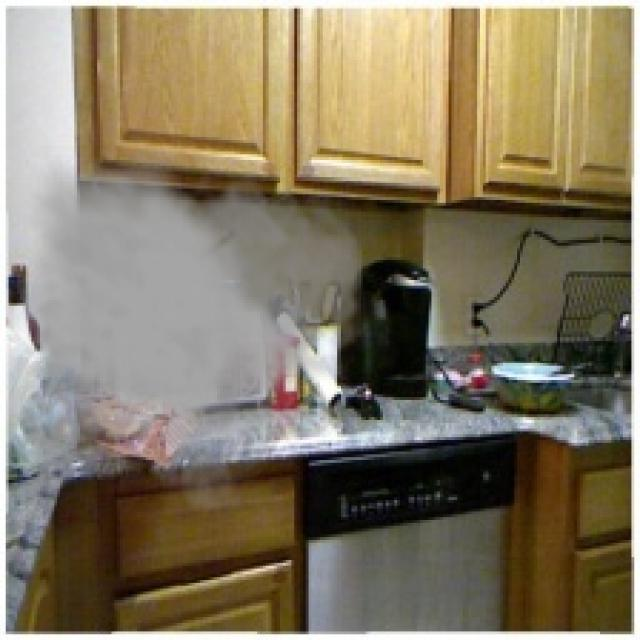Smoke: (11, 146, 368, 512)
